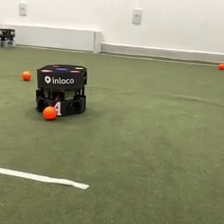ball: (41, 103, 58, 121), (21, 69, 32, 81), (217, 61, 224, 71)
goal: (1, 22, 103, 55)
robot: (32, 62, 89, 118), (1, 26, 17, 51)
